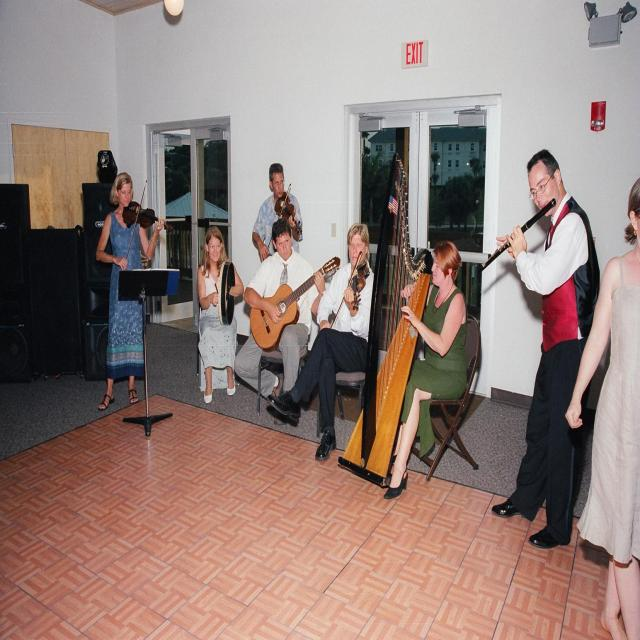guitar: (250, 256, 341, 349)
harp: (340, 149, 432, 487)
violin: (122, 200, 174, 240), (274, 190, 305, 238), (346, 261, 372, 315)
